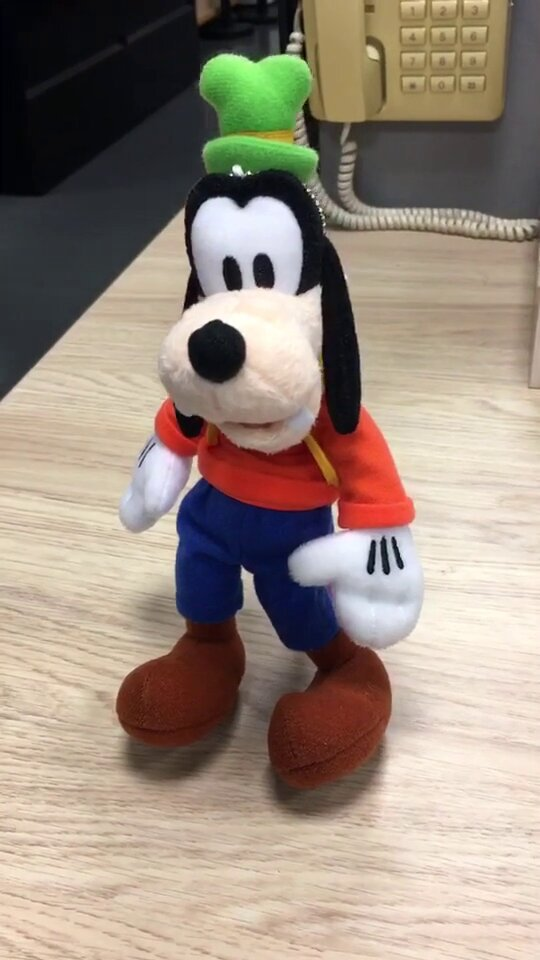goofy: (112, 48, 429, 790)
